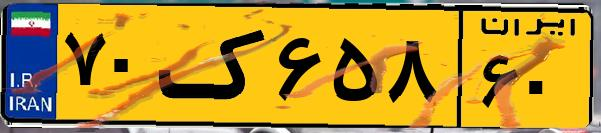0: (525, 38, 570, 115), (110, 28, 158, 98)
5: (330, 28, 385, 110)
6: (270, 28, 330, 110), (475, 38, 525, 113)
7: (57, 26, 110, 100)
8: (385, 28, 445, 110)
ک: (158, 12, 270, 120)
